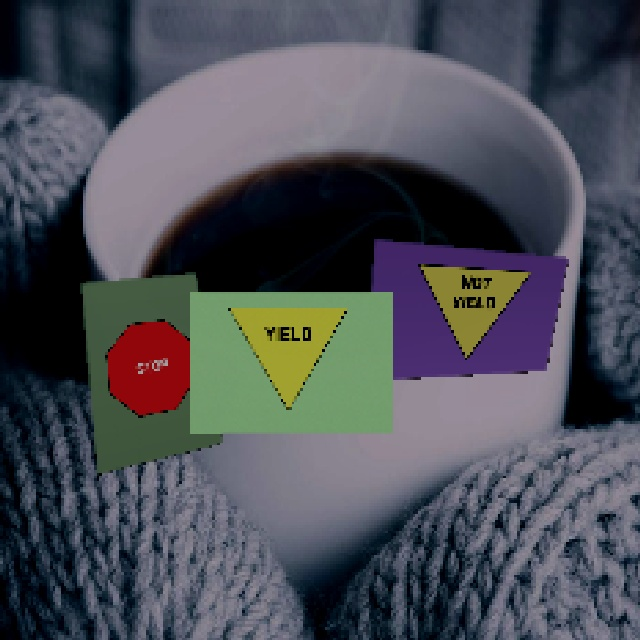NOT_YIELD: (407, 262, 529, 360)
STOP: (102, 315, 199, 420)
YIELD: (226, 306, 346, 410)
